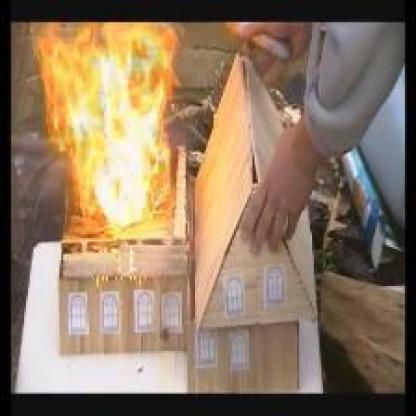fire: (23, 27, 191, 228)
